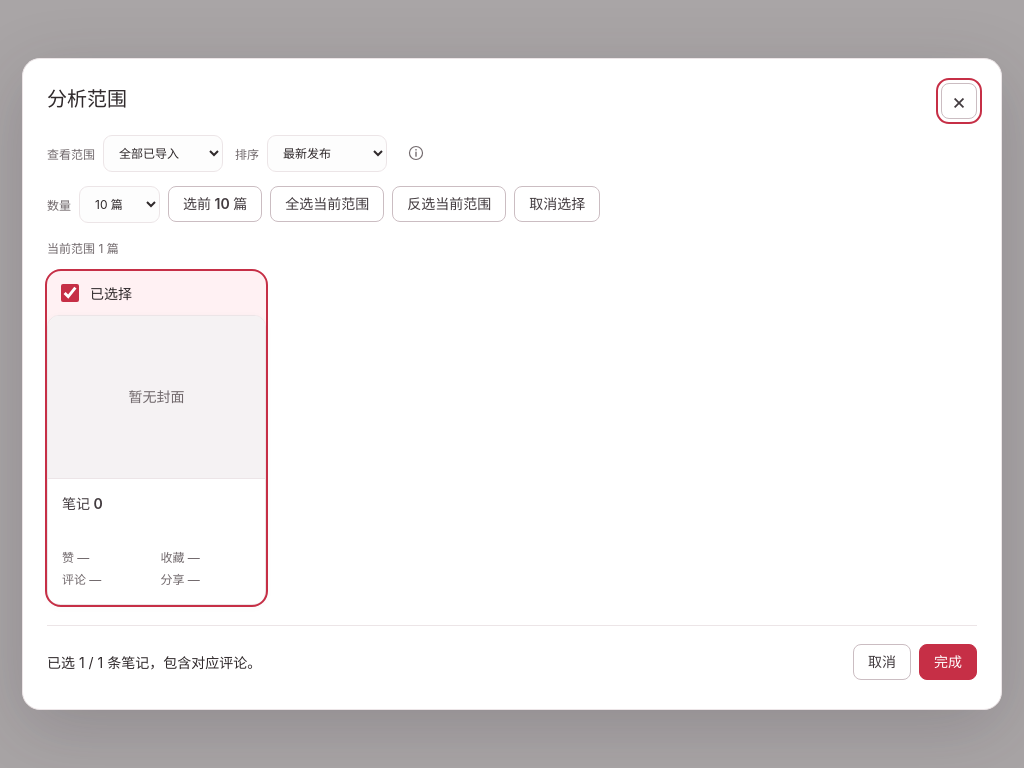
Test: does not choose unknown metrics automatically or accept non-positive custom counts
Step 1. Select "互动最高" in the dropdown labelled "排序" → point(327, 153), box top-left (267, 135), bottom-right (387, 172)
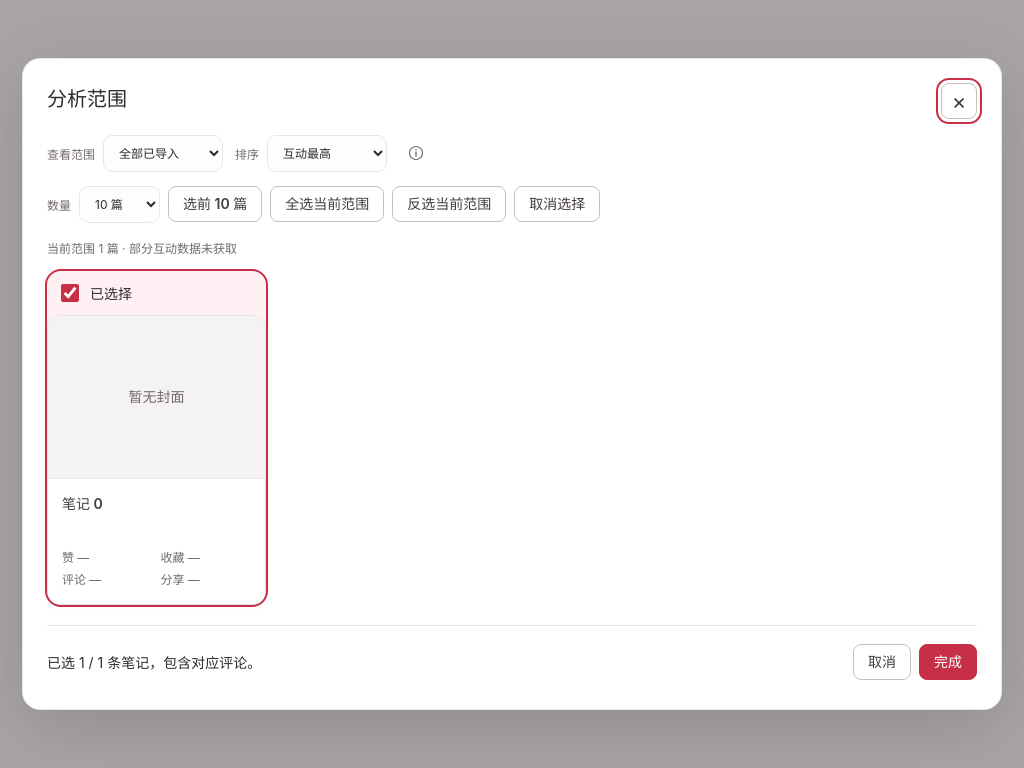
Step 2. Click the button "选前 10 篇" → point(215, 204), box top-left (168, 186), bottom-right (262, 222)
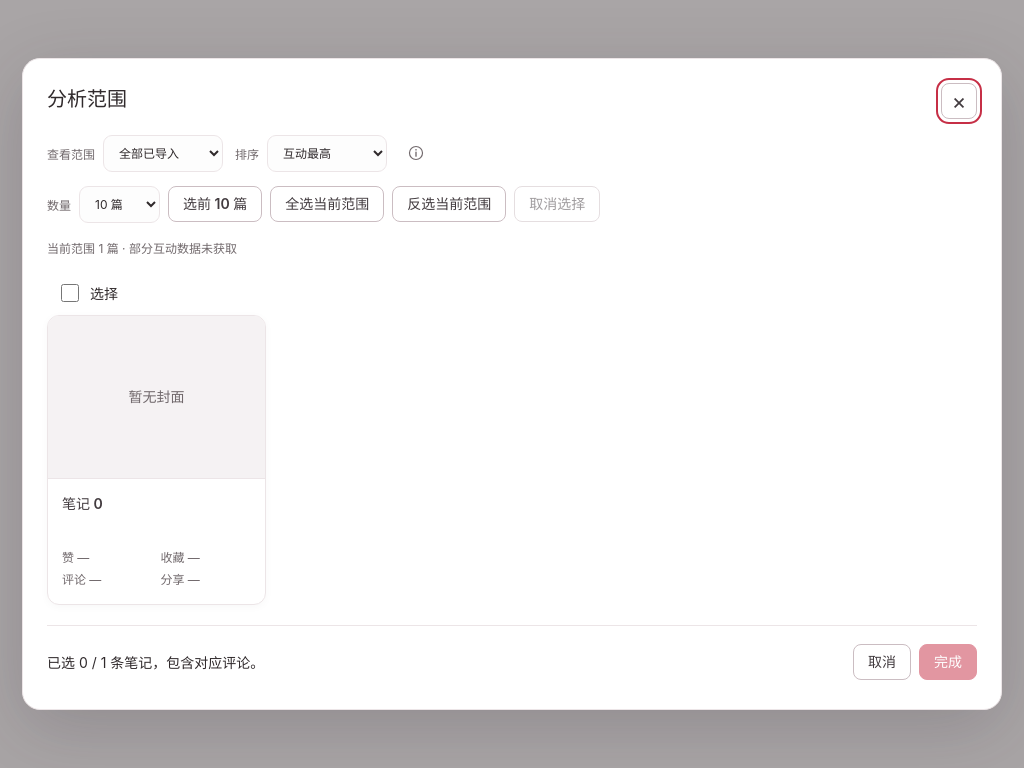
Expected: the checkbox is shown, top-left (61, 284), bottom-right (79, 302)
Expected: the button "完成" is disabled, top-left (919, 644), bottom-right (977, 680)
Step 3. Select "自定义" in the dropdown labelled "数量" → point(120, 204), box top-left (79, 186), bottom-right (160, 223)
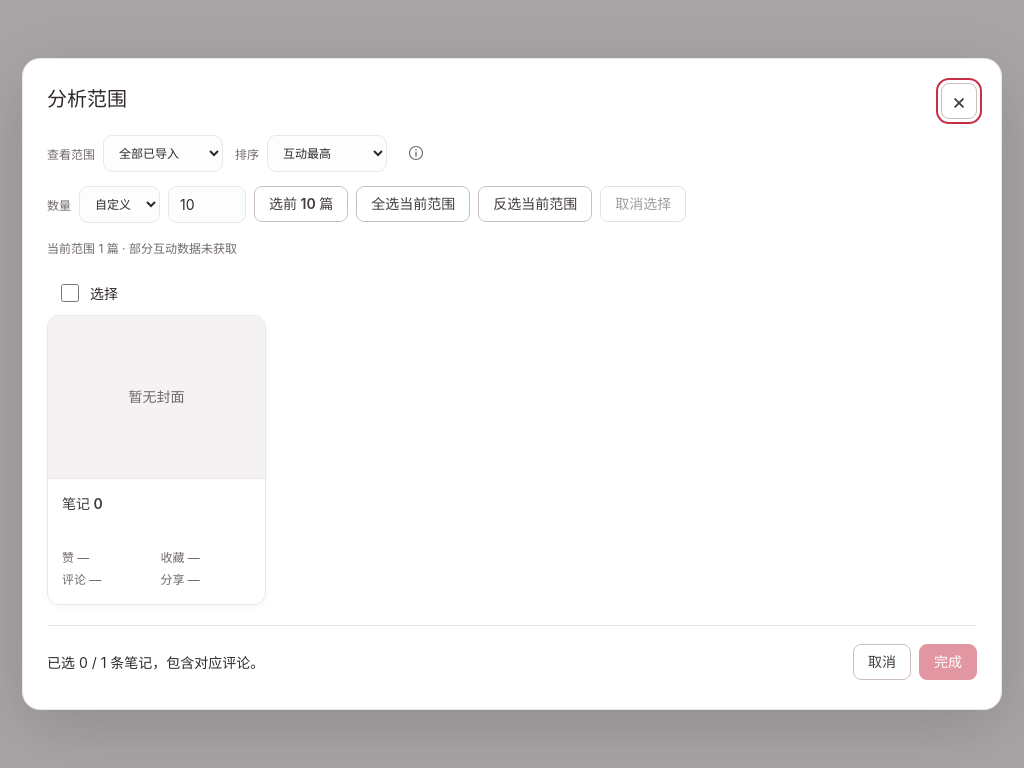
Step 4. Replace the text in the number field named "自定义篇数" with "0" → point(207, 204), box top-left (168, 186), bottom-right (246, 223)
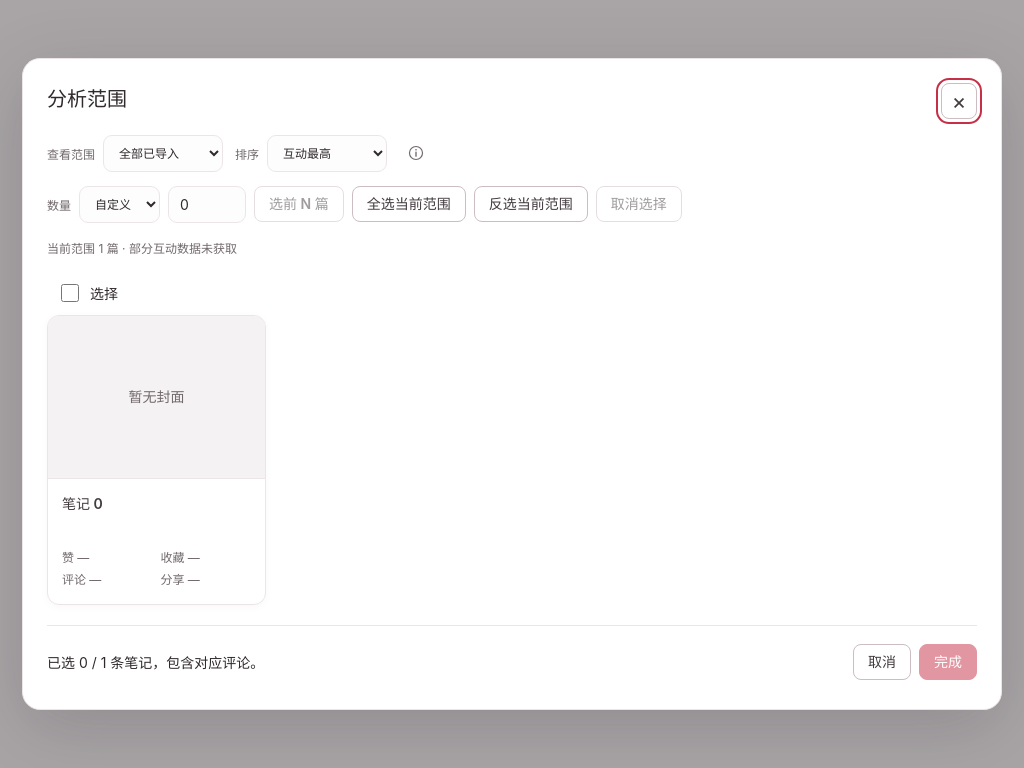
Expected: the button "选前 N 篇" is disabled, top-left (254, 186), bottom-right (344, 222)
